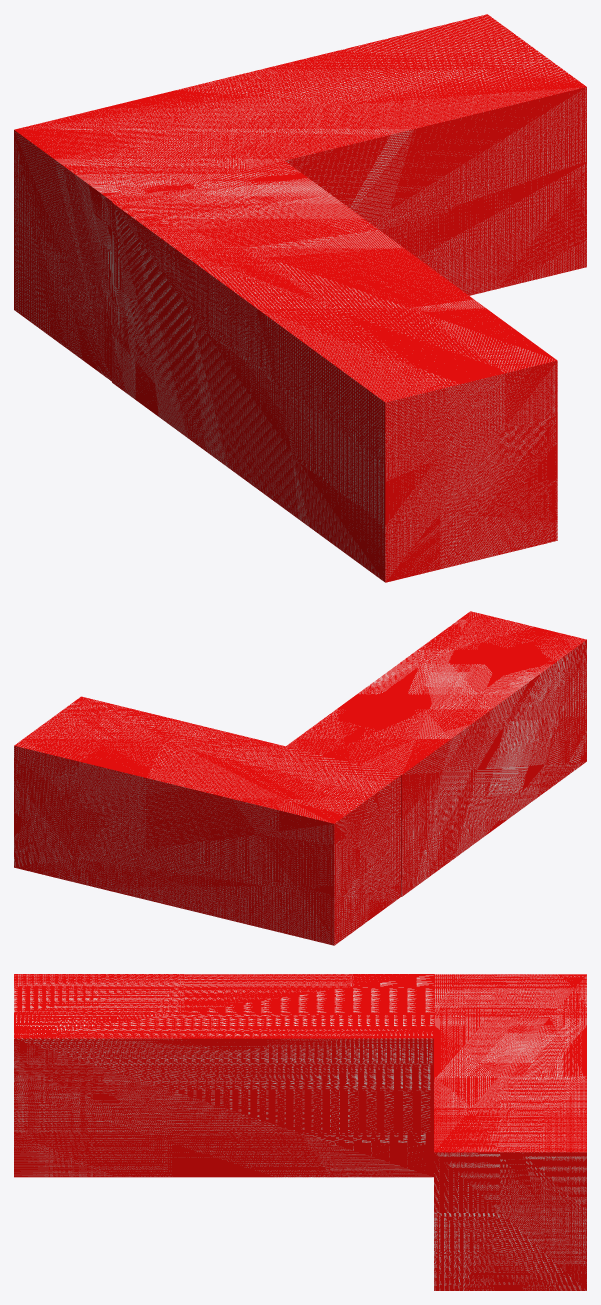
The model's file is Abstract_robot.dae.
3 views of the same model, one above another, from view 1: azimuth 30°, elevation 25°; view 2: azimuth 150°, elevation 25°; view 3: azimuth 270°, elevation 25° (orthographic). The views are drawn at different scales.
Visible parts, largest first — view 1: SketchUp (×2); view 2: SketchUp (×2); view 3: SketchUp (×2).
Part boxes in pixels (bbox=[...]): SketchUp (×2): bbox=[14, 14, 586, 582]; SketchUp (×2): bbox=[14, 611, 586, 945]; SketchUp (×2): bbox=[14, 974, 586, 1290].
Bounding box in the file's own units: 52.08 × 70.79 × 18.9.
